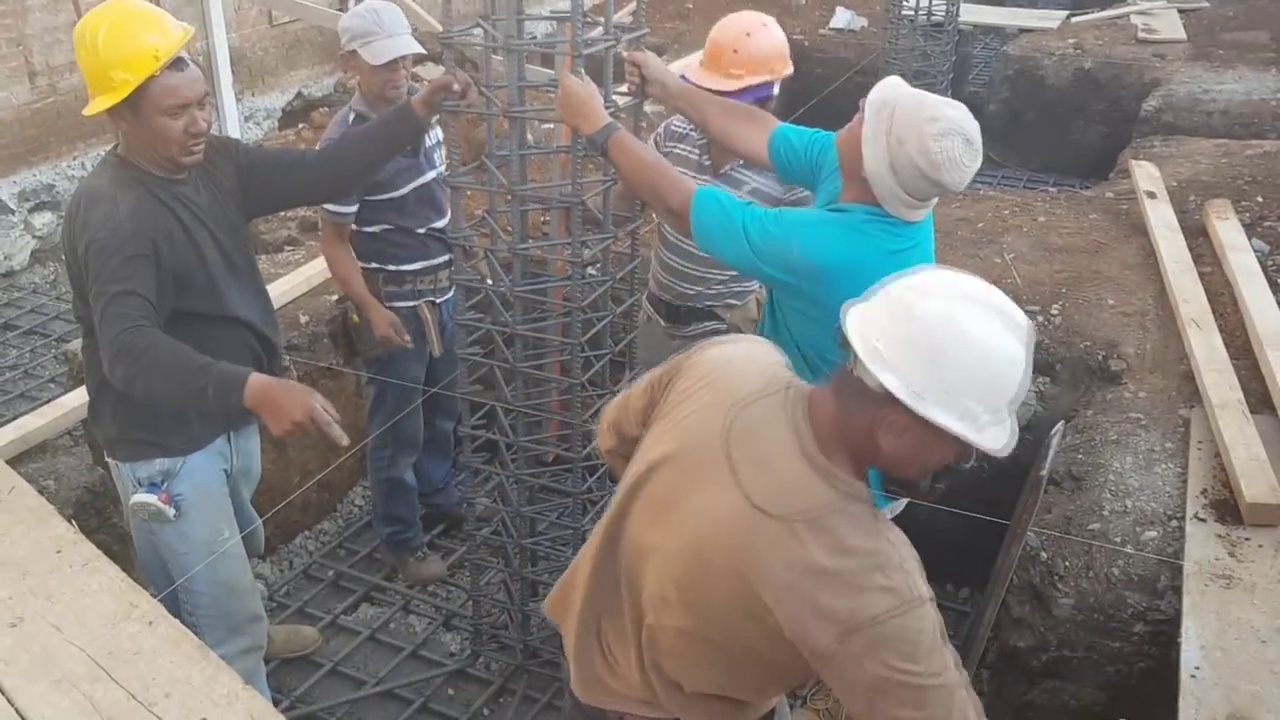helmet: (845, 274, 1045, 465), (70, 8, 199, 118), (692, 11, 803, 86)
helmet-off: (840, 83, 1002, 220), (333, 0, 431, 117)
helmet-on: (802, 272, 1042, 498), (69, 8, 204, 170), (673, 6, 804, 171)
person: (75, 3, 399, 720), (544, 270, 1045, 720), (541, 44, 1003, 380), (315, 9, 476, 590), (622, 5, 798, 383)
